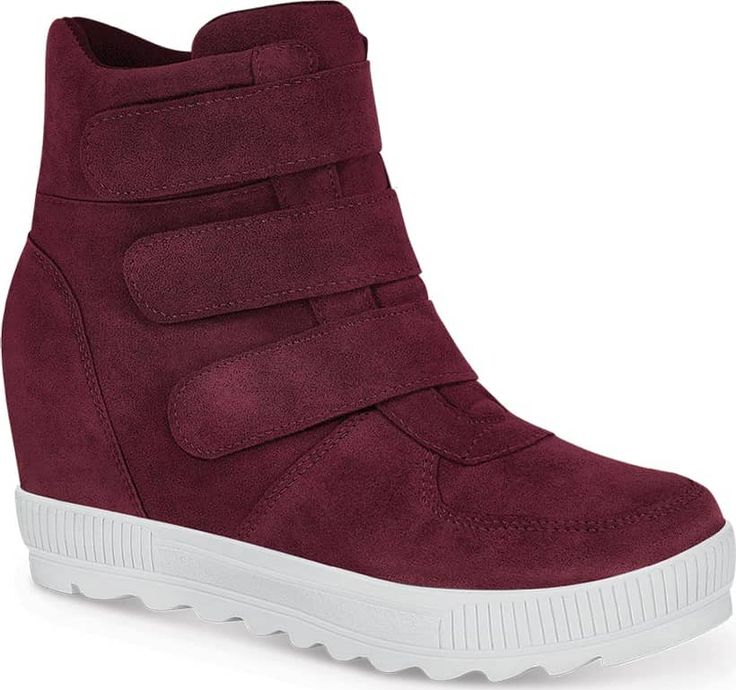gamuza: (1, 1, 725, 591)
